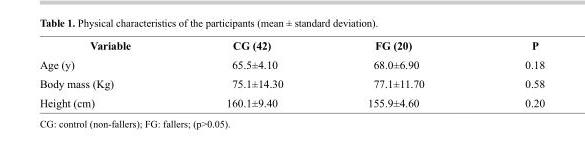table: (38, 38, 544, 108)
table column: (324, 38, 474, 108), (177, 38, 324, 108), (38, 38, 177, 108), (474, 38, 544, 108)
table column header: (38, 38, 544, 54)
table row: (38, 54, 544, 73), (38, 73, 544, 92), (38, 38, 544, 54), (38, 92, 544, 108)
